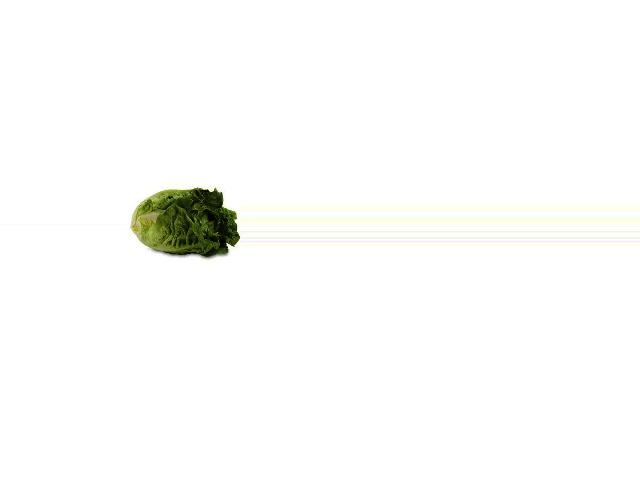lettuce: (130, 181, 236, 261)
